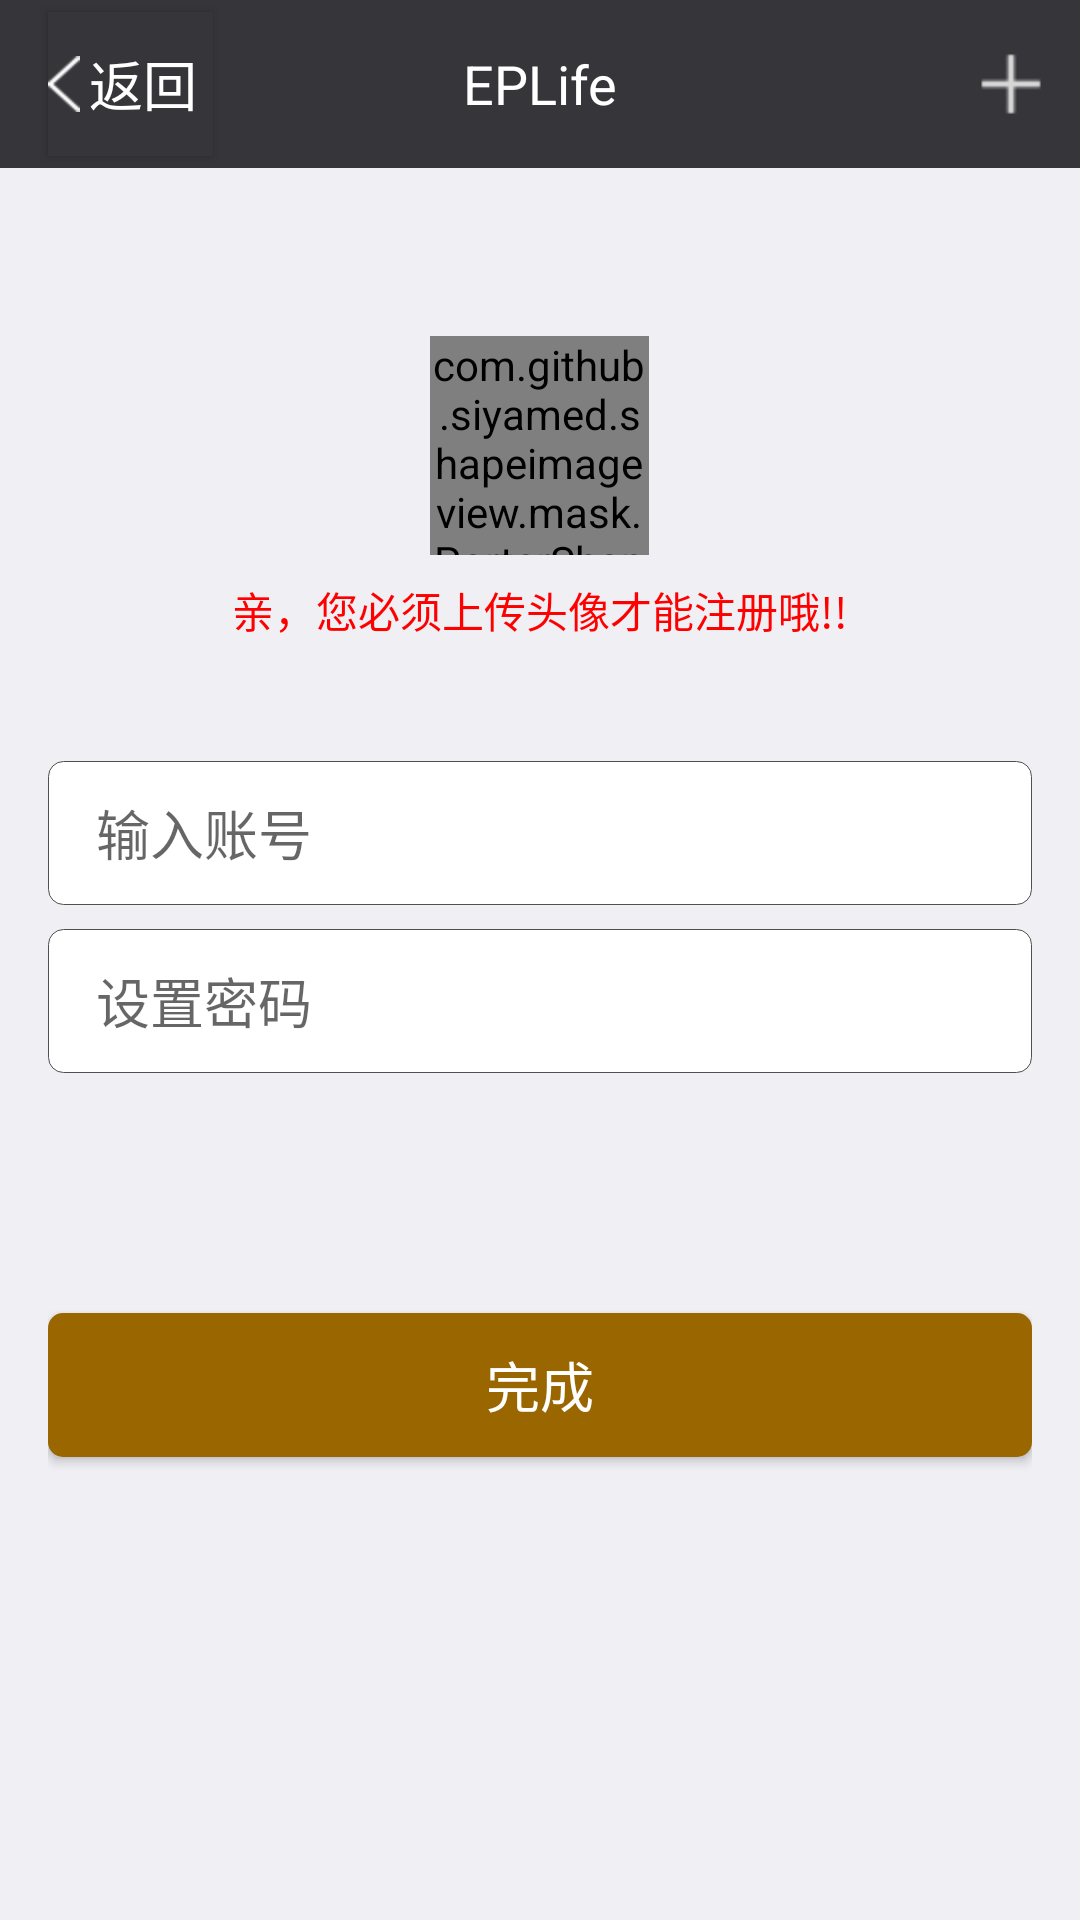

Where icons sit on this 1080px×1920px app screen, as (x1, y1, x2, y2):
more: (981, 54, 1041, 114)
